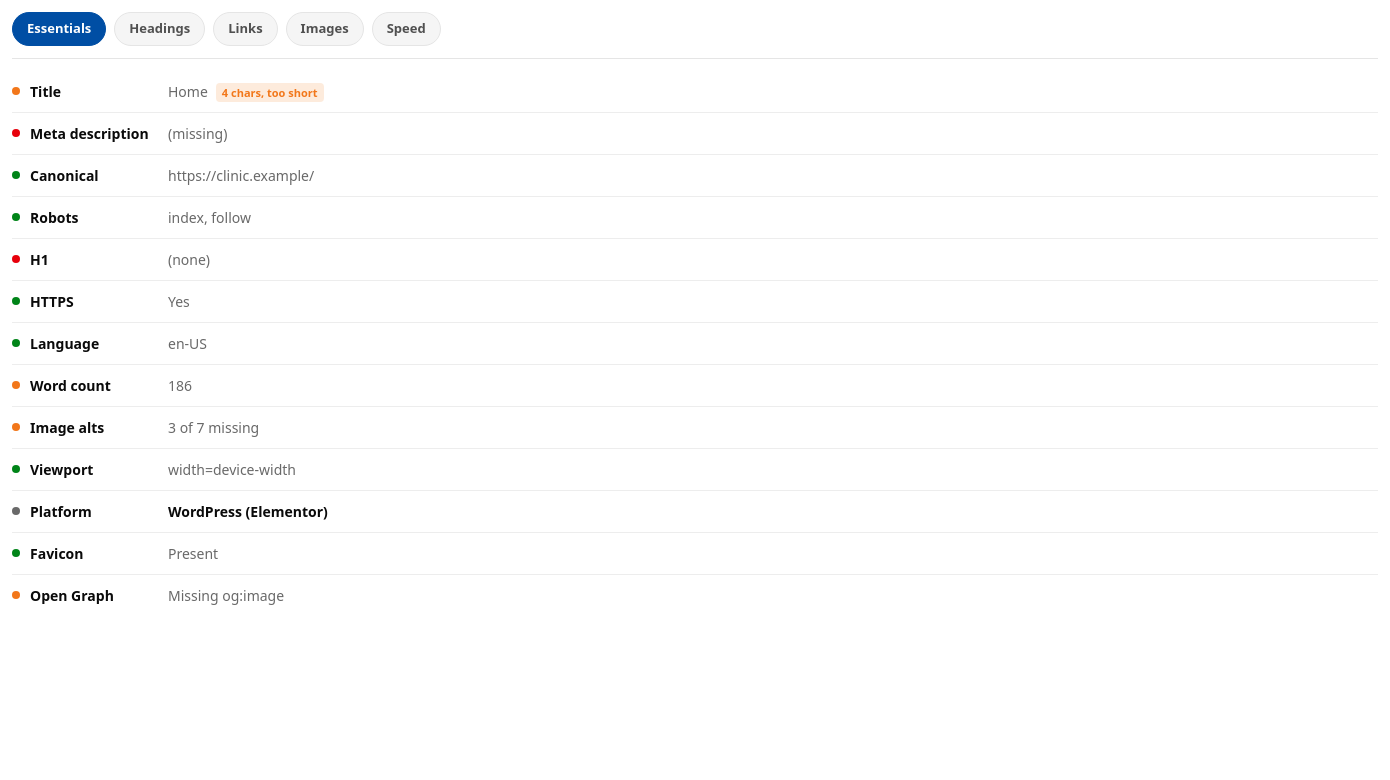
Test: On-Page links › filters by kind, and switching back restores the list
The image size is (1390, 780).
Click the button "Links": (245, 29) 213,12 -> 278,46
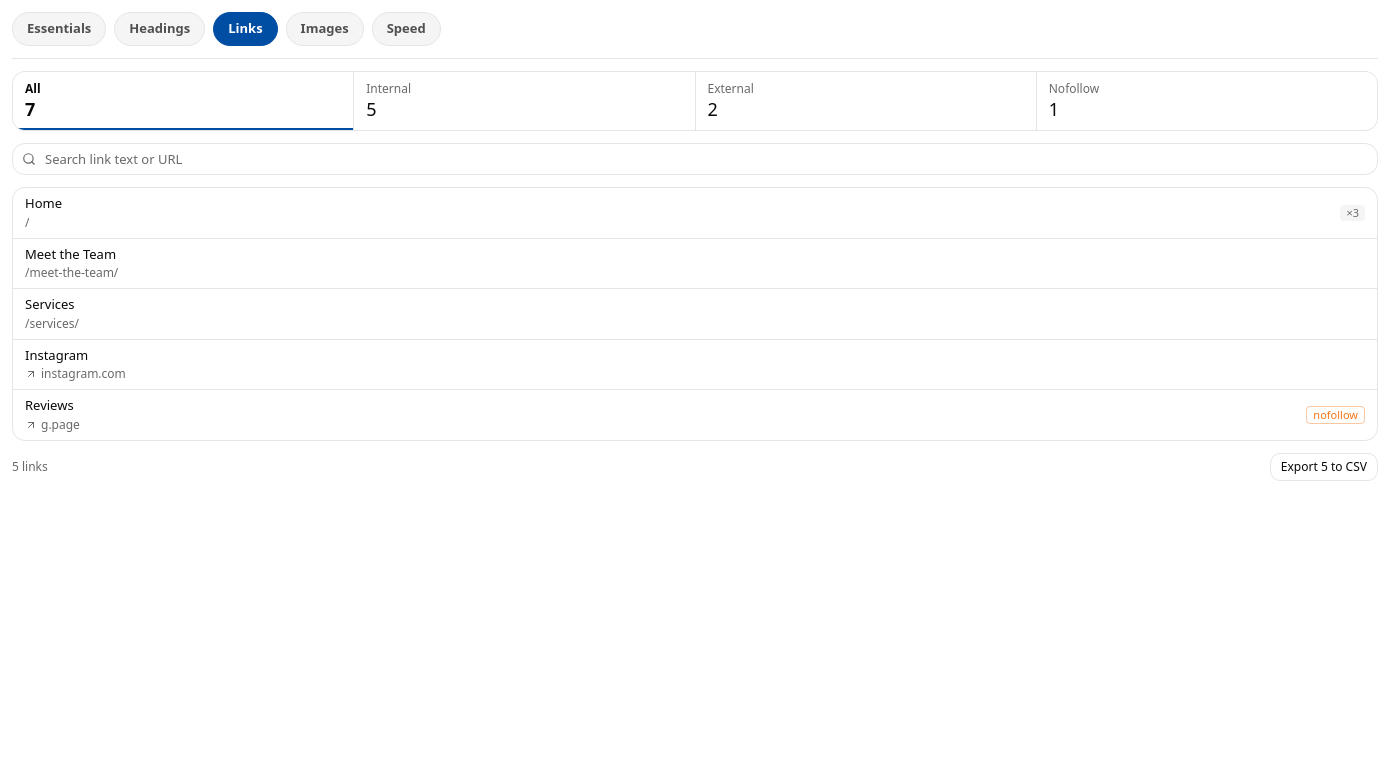
Result: the number of list items is 5 at 13,188 -> 1377,238; 13,238 -> 1377,289; 13,289 -> 1377,340; 13,340 -> 1377,390; 13,390 -> 1377,440
Click the button "External 2": (731, 88) 696,72 -> 1036,130
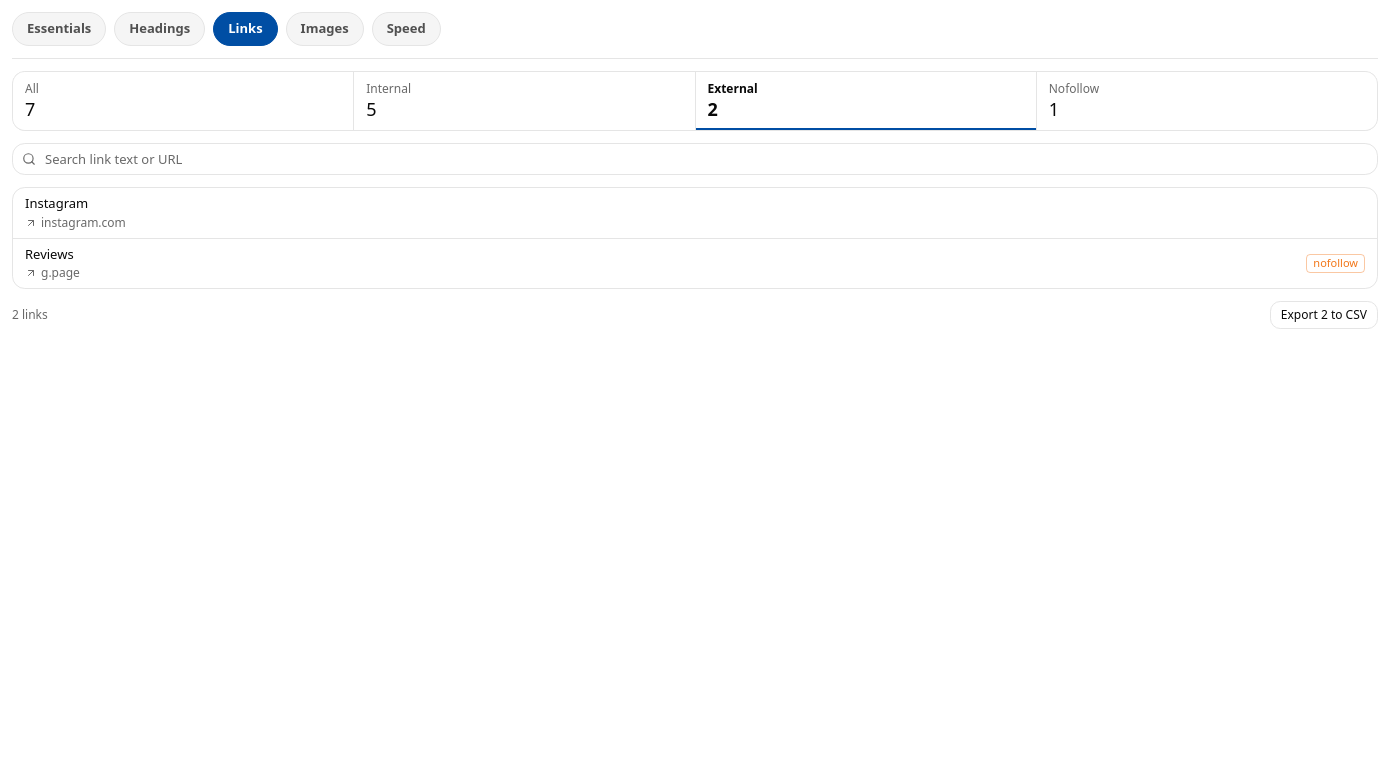
Click the button "Nofollow 1": (1074, 88) 1037,72 -> 1377,130
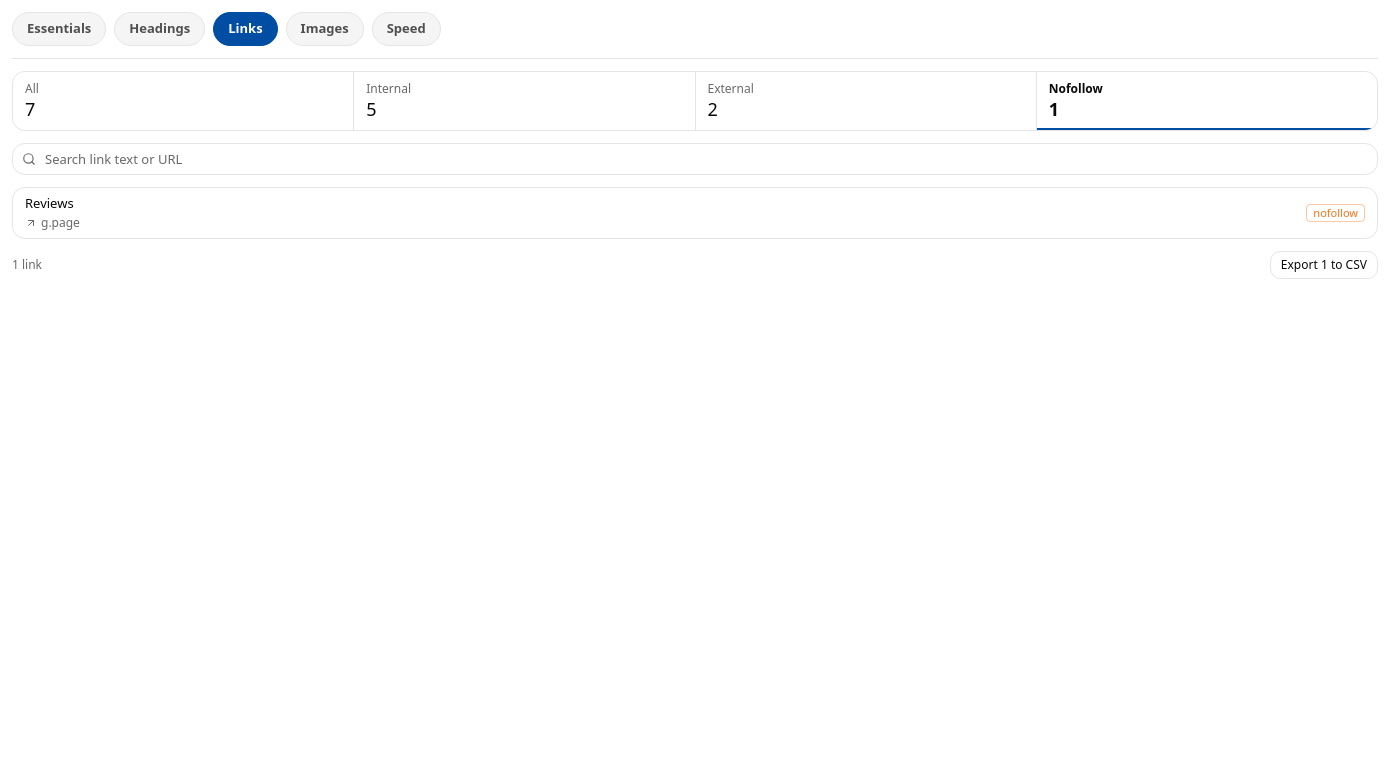
Result: the number of list items is 1 at 13,188 -> 1377,238
Click the button "Internal 5": (389, 88) 354,72 -> 695,130
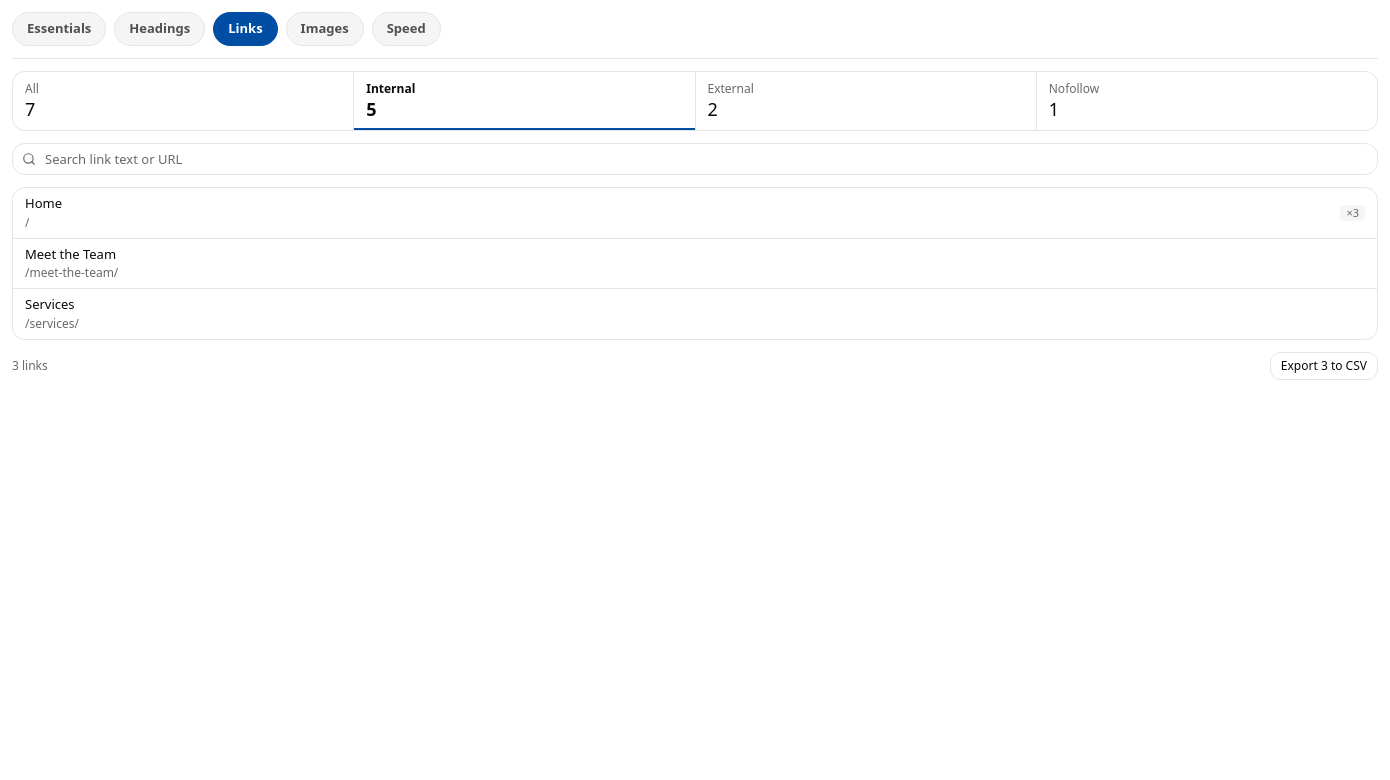
Expected: the link "Instagram" is not shown
Result: the number of list items is 3 at 13,188 -> 1377,238; 13,238 -> 1377,289; 25,295 -> 79,332
Click the button "All 7": (32, 88) 13,72 -> 353,130
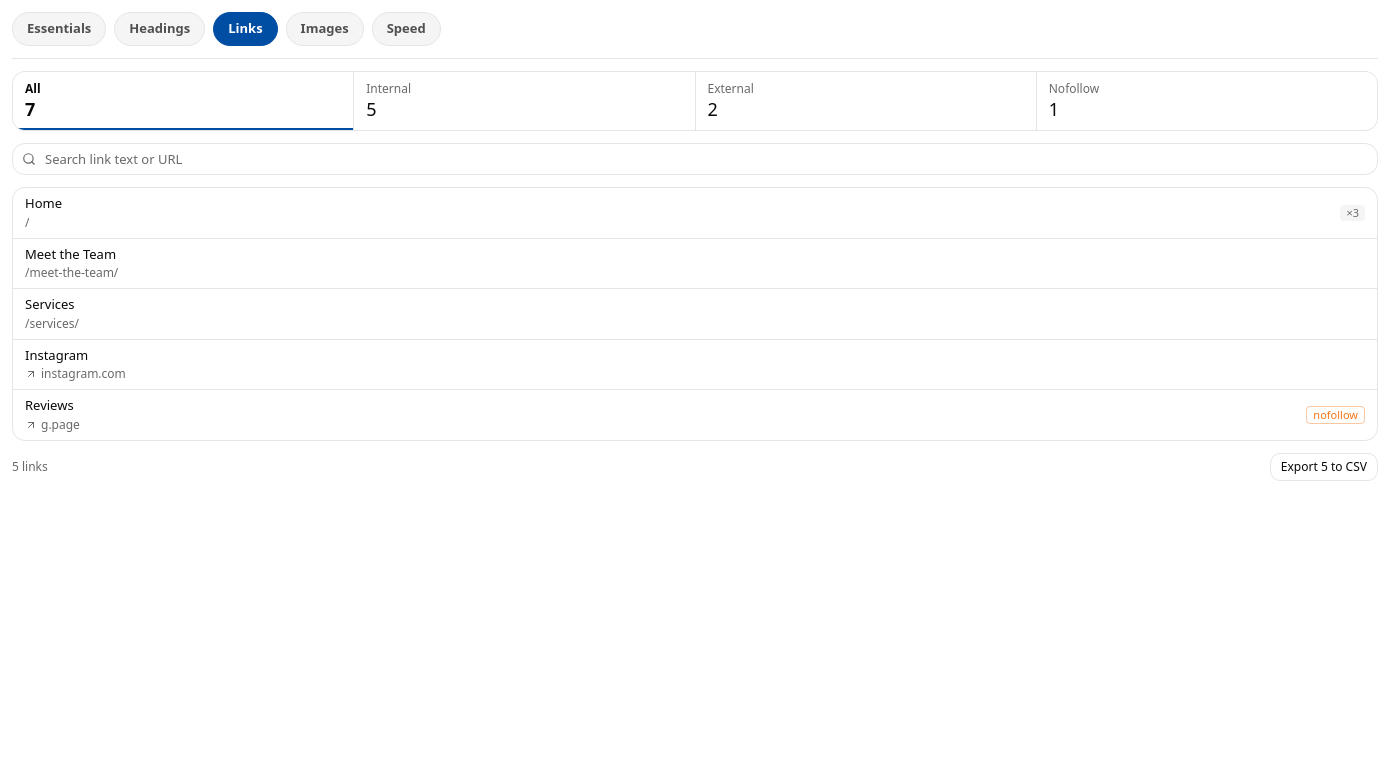
Result: the number of list items is 5 at 13,188 -> 1377,238; 13,238 -> 1377,289; 13,289 -> 1377,340; 13,340 -> 1377,390; 13,390 -> 1377,440
